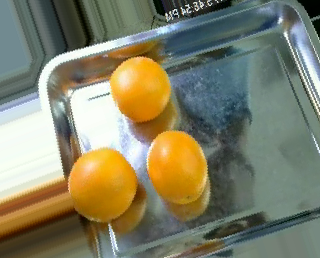Orange: (67, 145, 139, 221), (146, 130, 208, 205), (110, 55, 171, 120)
